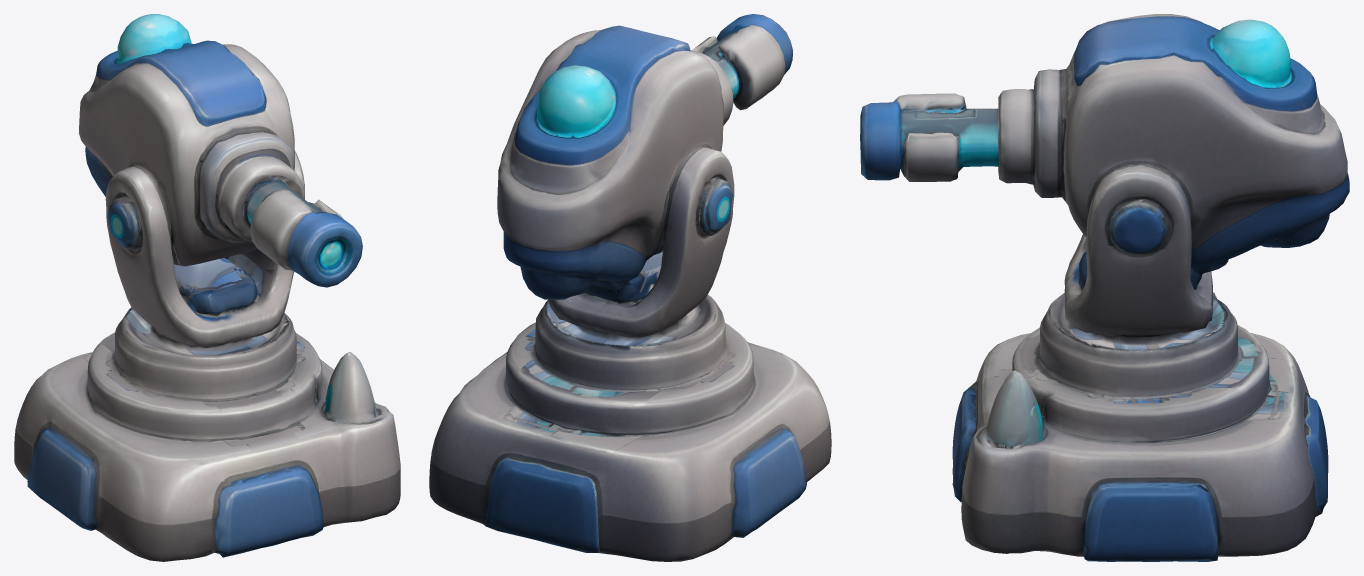
Rendered from Blue Laser Turret.glb.
3 renders of one model, left to right at view 1: azimuth 30°, elevation 25°; view 2: azimuth 150°, elevation 25°; view 3: azimuth 270°, elevation 25°, orthographic. The views are drawn at different scales.
Visible parts, largest first — view 1: texture_mapping; view 2: texture_mapping; view 3: texture_mapping.
Boxes of the visible parts, x1,y1,x2,y2 form: texture_mapping: (14, 14, 400, 561); texture_mapping: (429, 14, 831, 561); texture_mapping: (860, 14, 1349, 561).
Bounding box in the file's own units: 0.7173 × 1 × 0.9555.
Materials: 1 (1 with a texture image).
